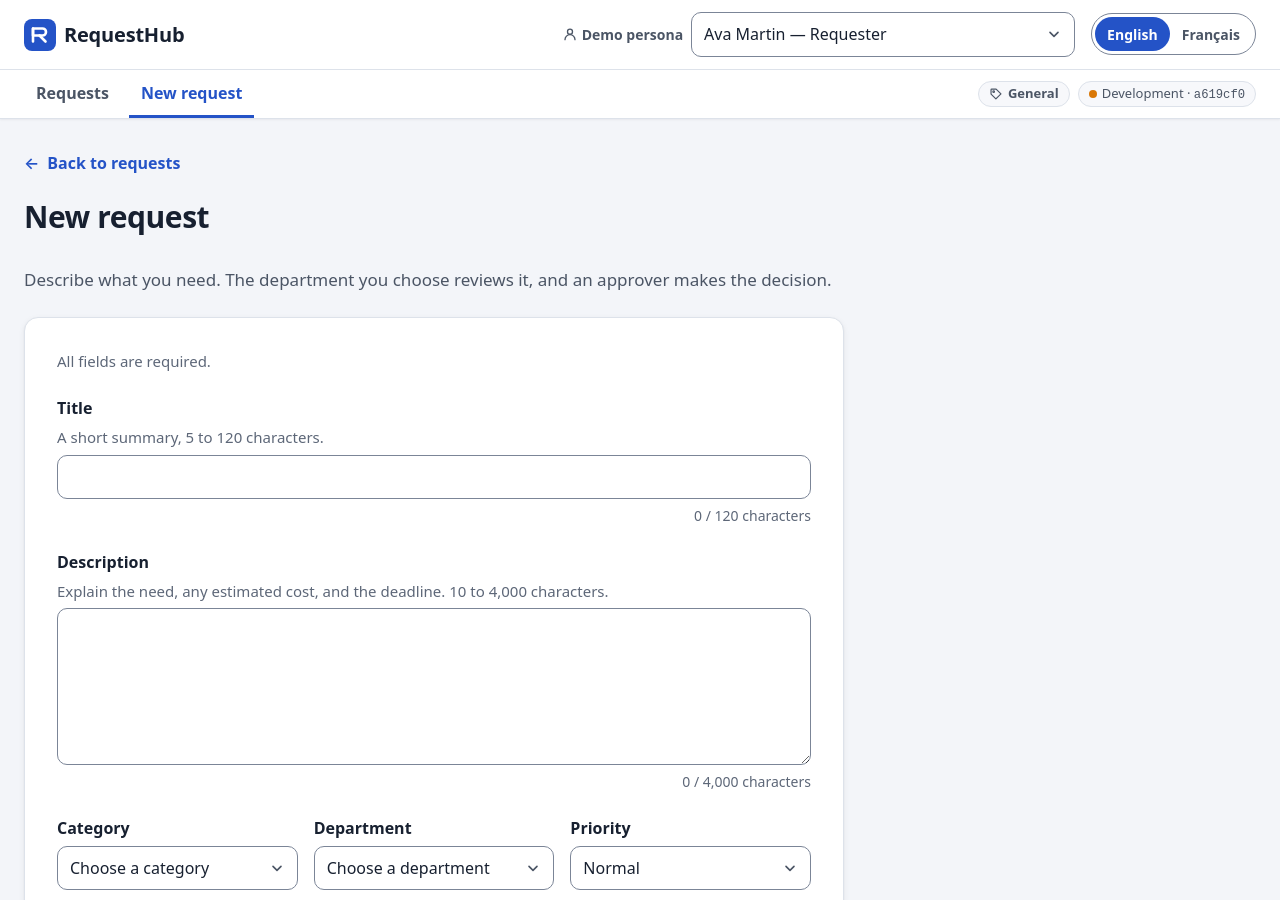
Scenario: NewRequestPage › sends an Idempotency-Key and blocks a second submit while the first is pending
In the field labelled "Title": {"x": 434, "y": 477} 57,454 -> 811,499, type "Monitor arm for desk 7A"
In the text box labelled "Description": {"x": 434, "y": 687} 57,608 -> 811,765, type "Need an adjustable monitor arm for the shared desk."
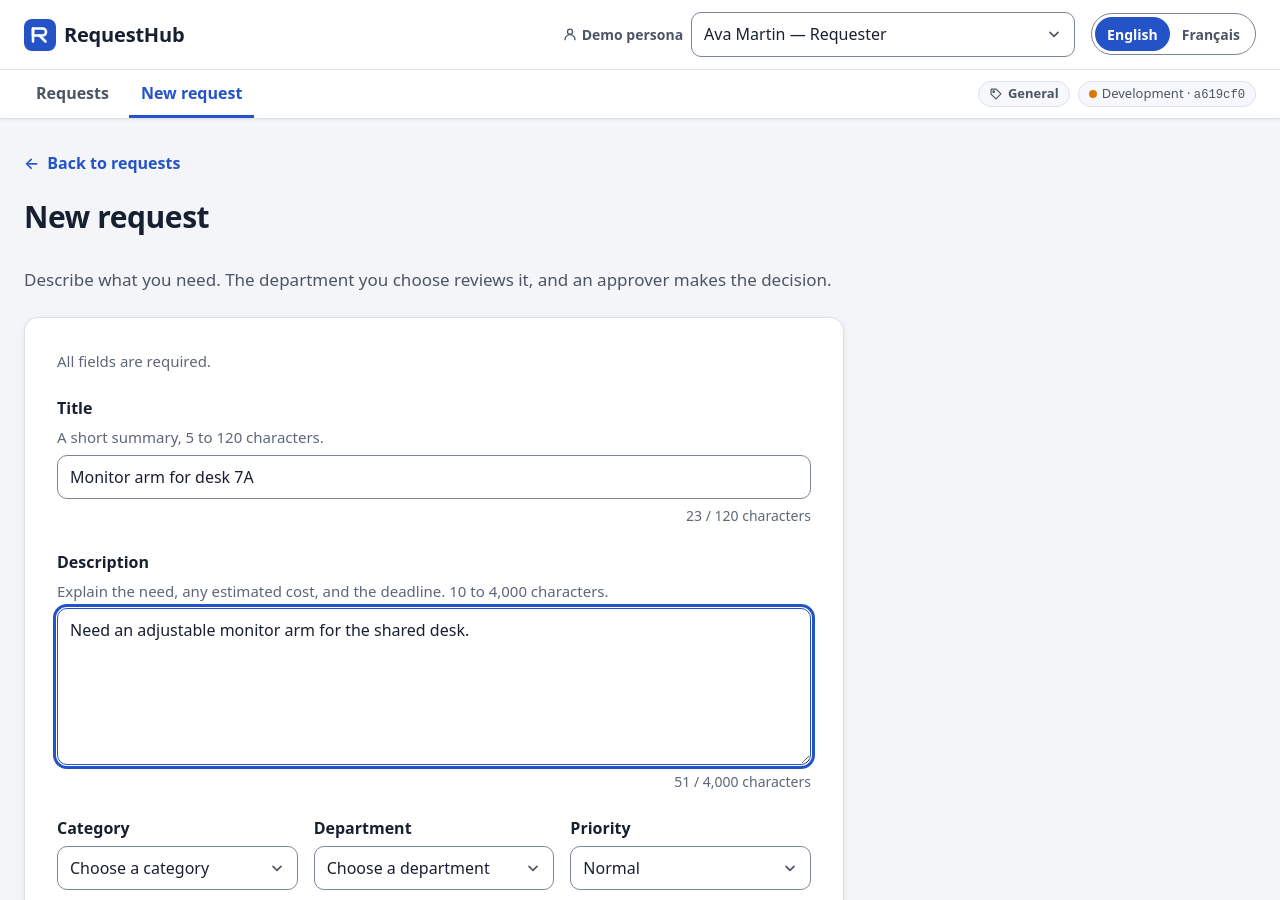
Select "Equipment" in the dropdown labelled "Category": {"x": 177, "y": 868} 57,846 -> 298,890
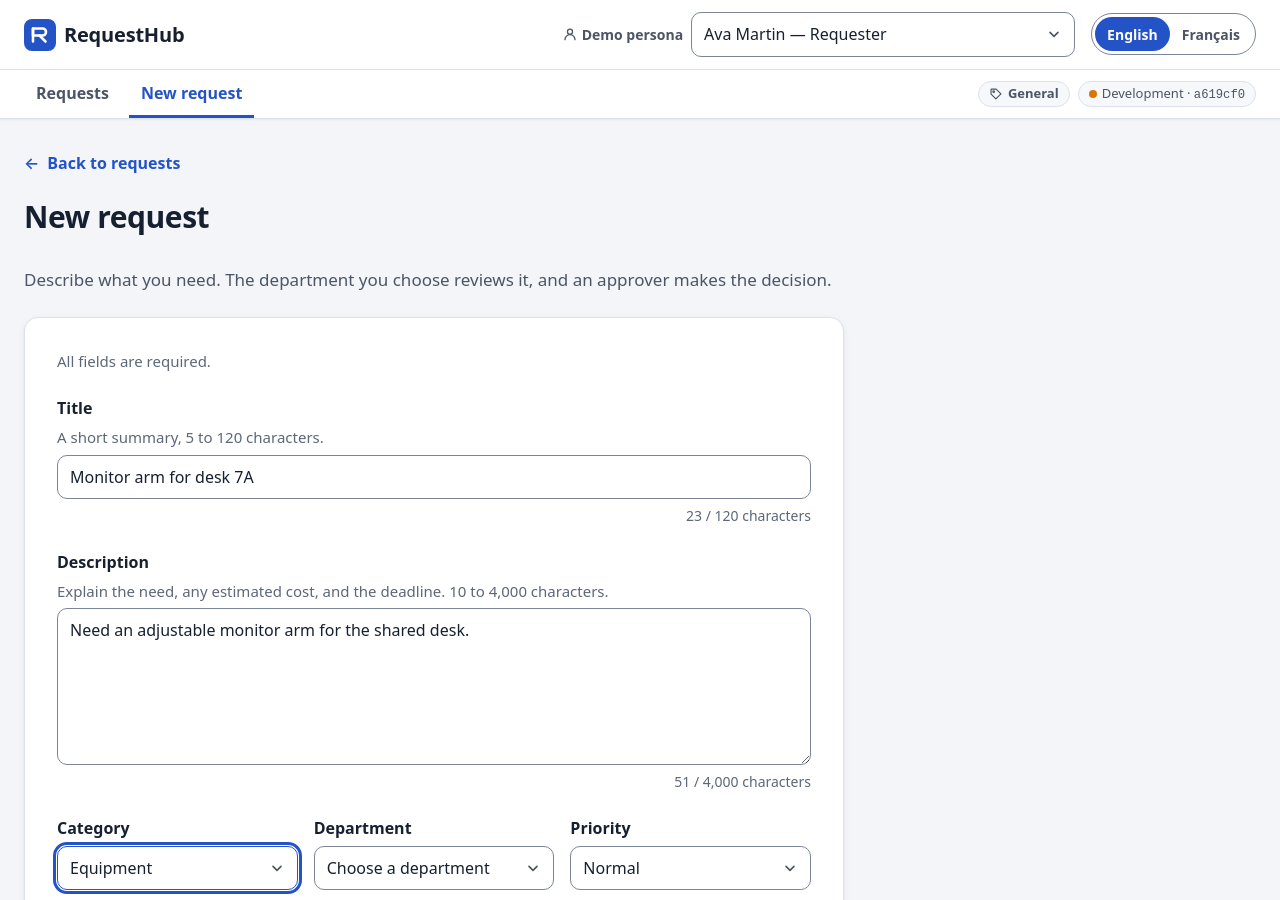
Select "IT Services" in the dropdown labelled "Department": {"x": 434, "y": 868} 314,846 -> 554,890
(page scrolled)
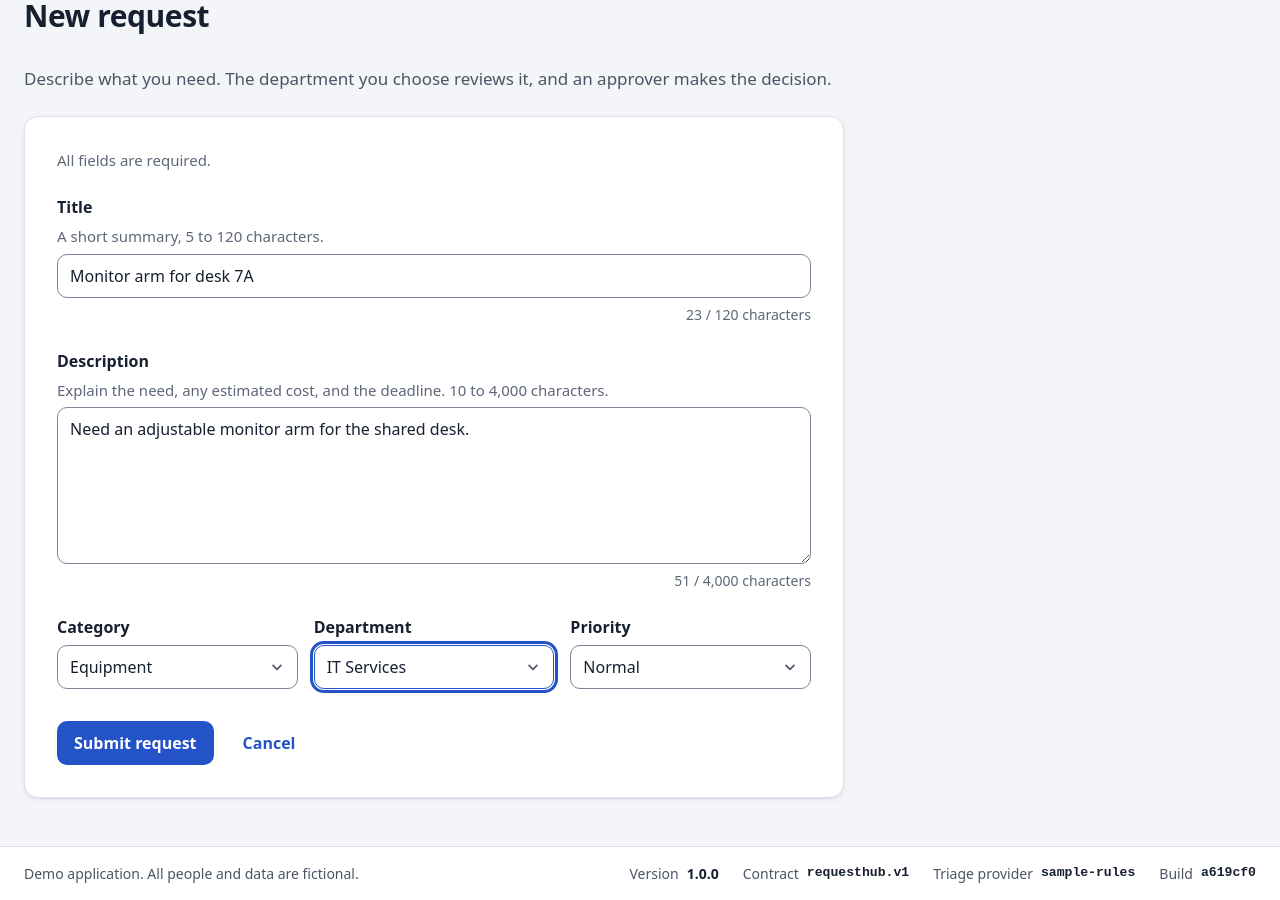
Click the button "Submit request": {"x": 135, "y": 743} 57,721 -> 214,765
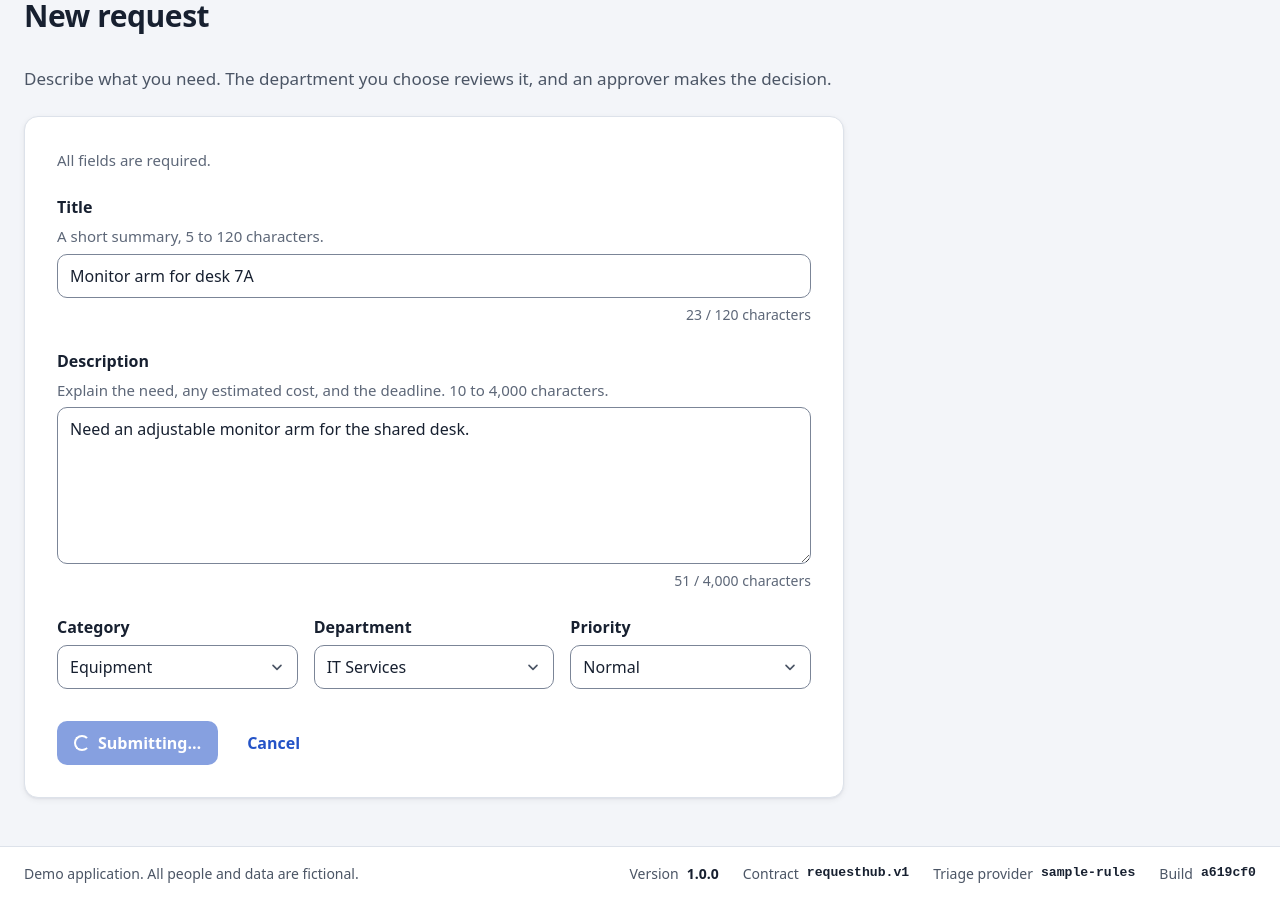
Expected: the button named "Submit request" is disabled
Expected: the button named "Submit request" reads "Submitting…"
Click the button named "Submit request": {"x": 138, "y": 743} 57,721 -> 218,765
(page scrolled)
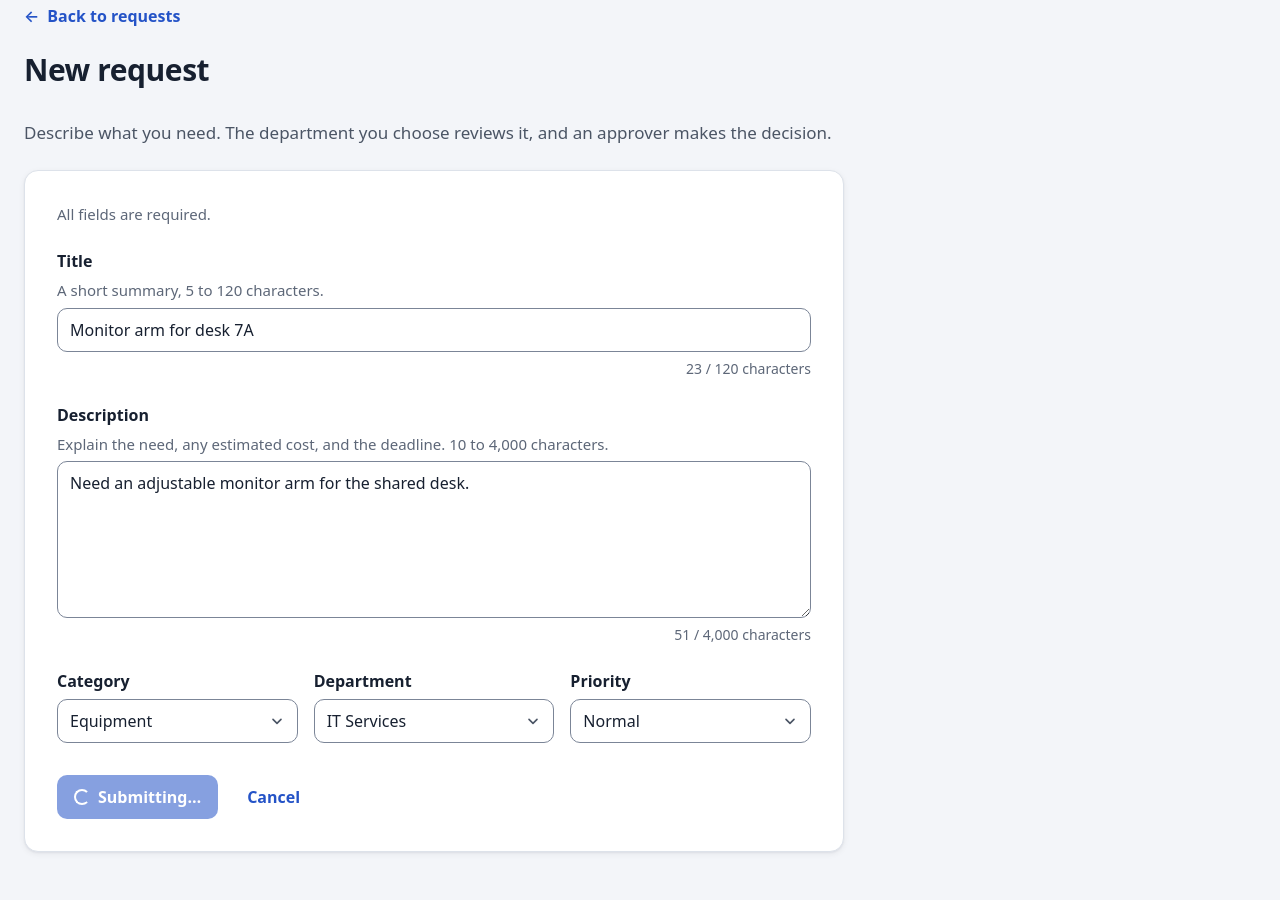
Submit the form named "Submit request", box 24,170 -> 844,852
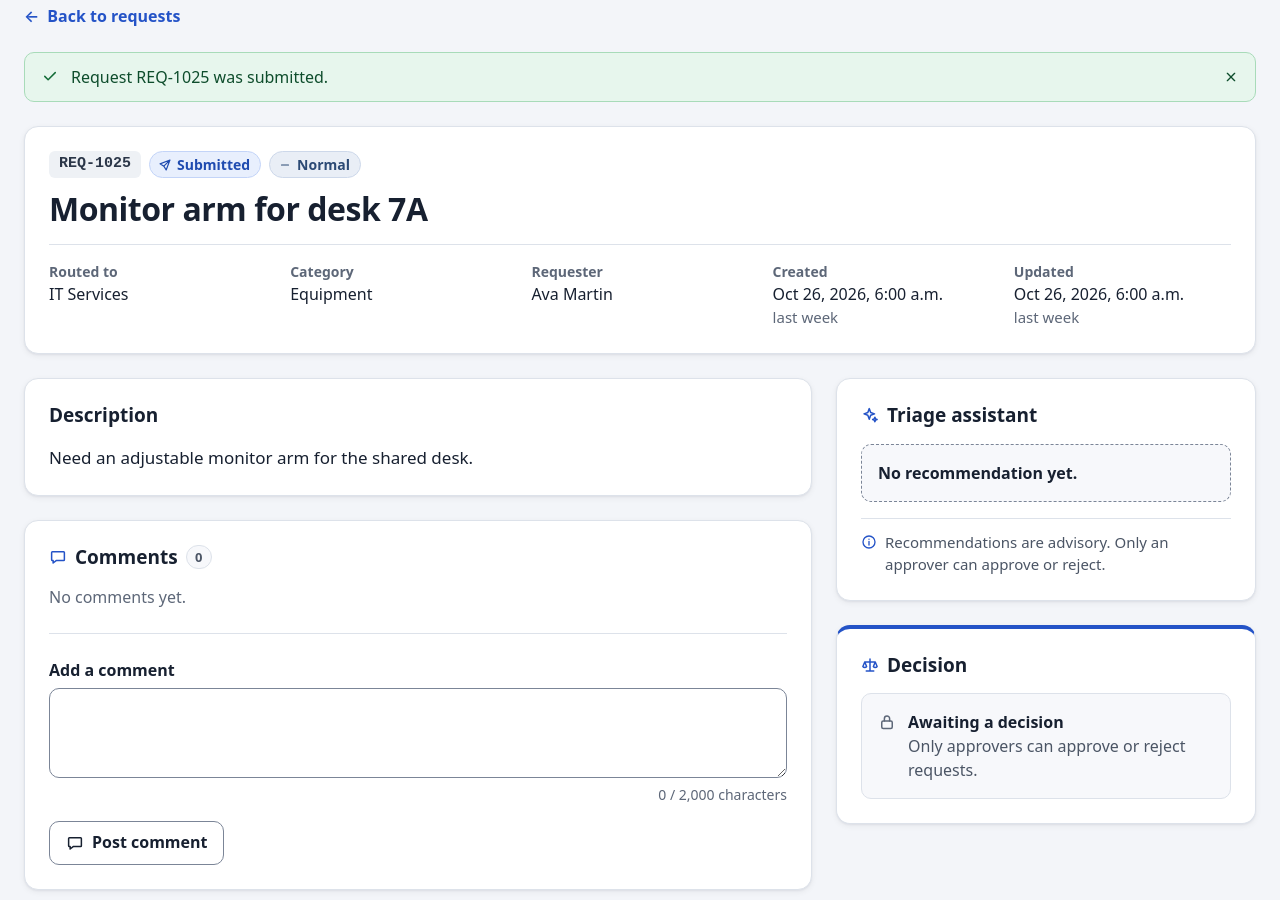
Expected: the heading "Monitor arm for desk 7A" is shown, 49,187 -> 428,230
Expected: the text "Request REQ-1025 was submitted." is shown, 71,66 -> 328,88
